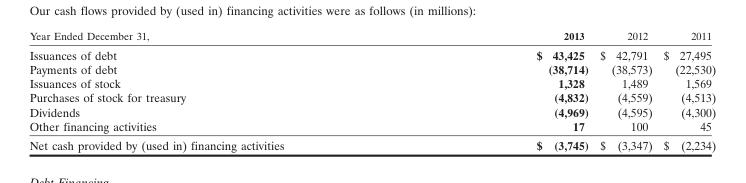table: (28, 29, 715, 152)
table column: (28, 29, 409, 152), (409, 29, 593, 152), (593, 29, 657, 152), (657, 29, 715, 152)
table column header: (28, 29, 715, 44)
table row: (28, 44, 715, 61), (28, 118, 715, 135), (28, 135, 715, 152), (28, 29, 715, 44), (28, 75, 715, 90), (28, 61, 715, 75), (28, 90, 715, 104), (28, 104, 715, 118)
